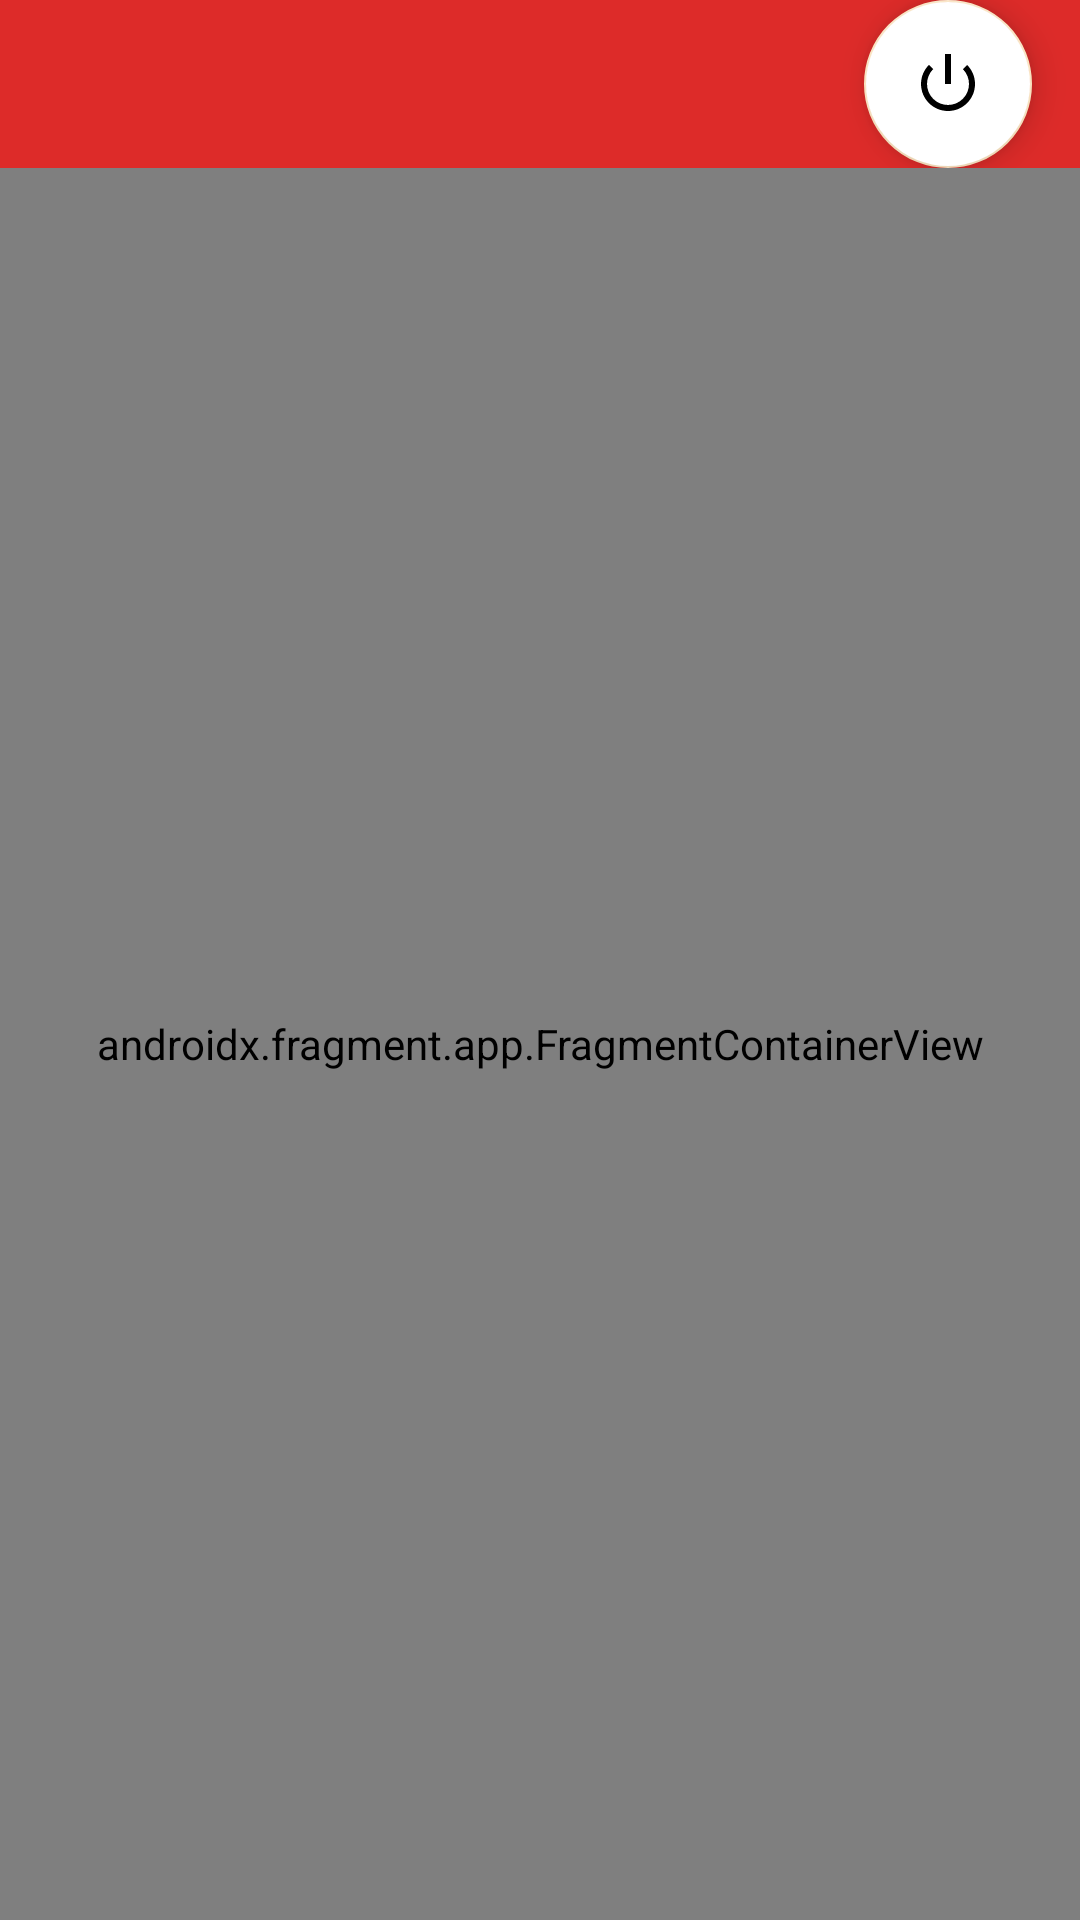

Icon click points for this 1080 x 1920 phone screenshot, format (x,y):
lock power off: (948,84)
